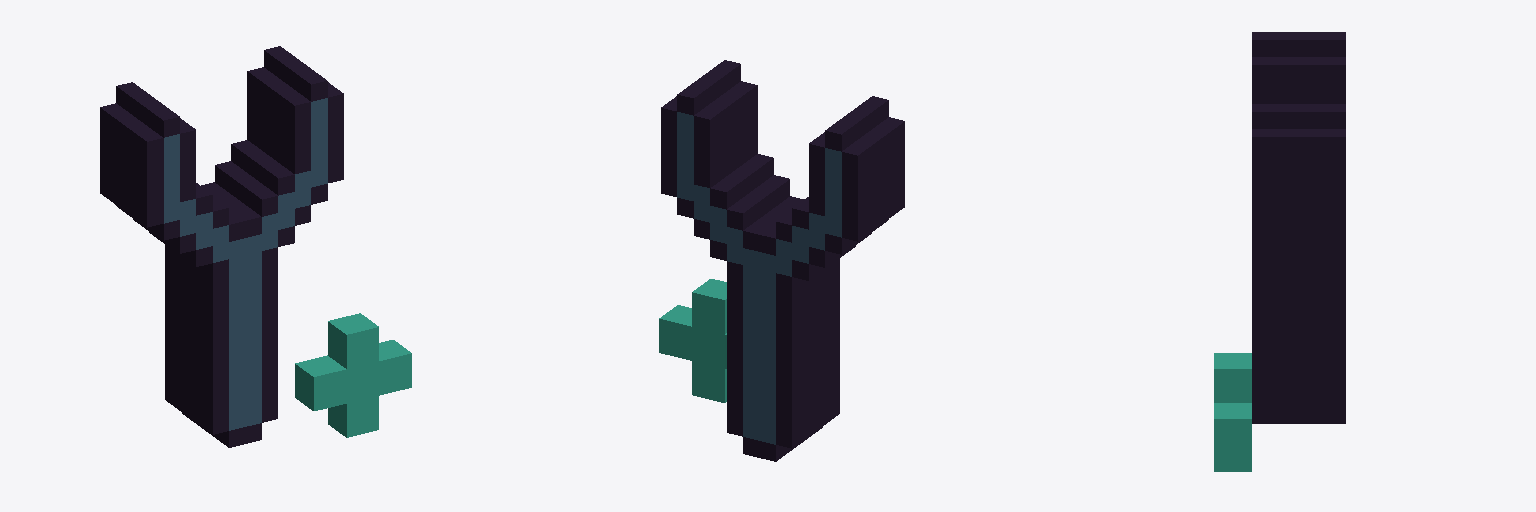
3 renders of one model, left to right at view 1: azimuth 30°, elevation 25°; view 2: azimuth 150°, elevation 25°; view 3: azimuth 270°, elevation 25°, orthographic.
Parts seen in each view (by area): view 1: object 1; view 2: object 1; view 3: object 1.
Boxes of the visible parts, <box> form: object 1: <box>100,46,411,447</box>; object 1: <box>659,60,904,461</box>; object 1: <box>1214,32,1345,471</box>.
Bounding box in the file's own units: 1.5 × 2 × 0.7.
1 materials, 1 textured.